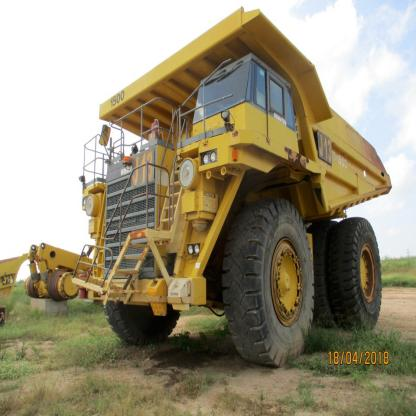dump_truck: (82, 9, 385, 358)
